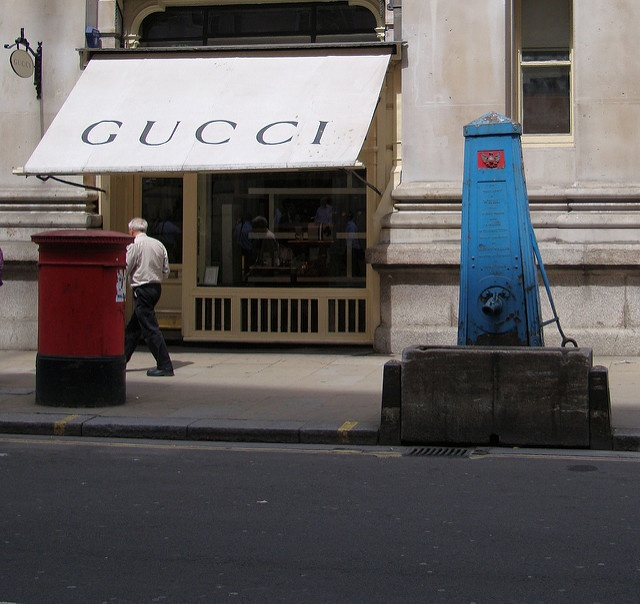Gucci: (75, 113, 327, 154)
